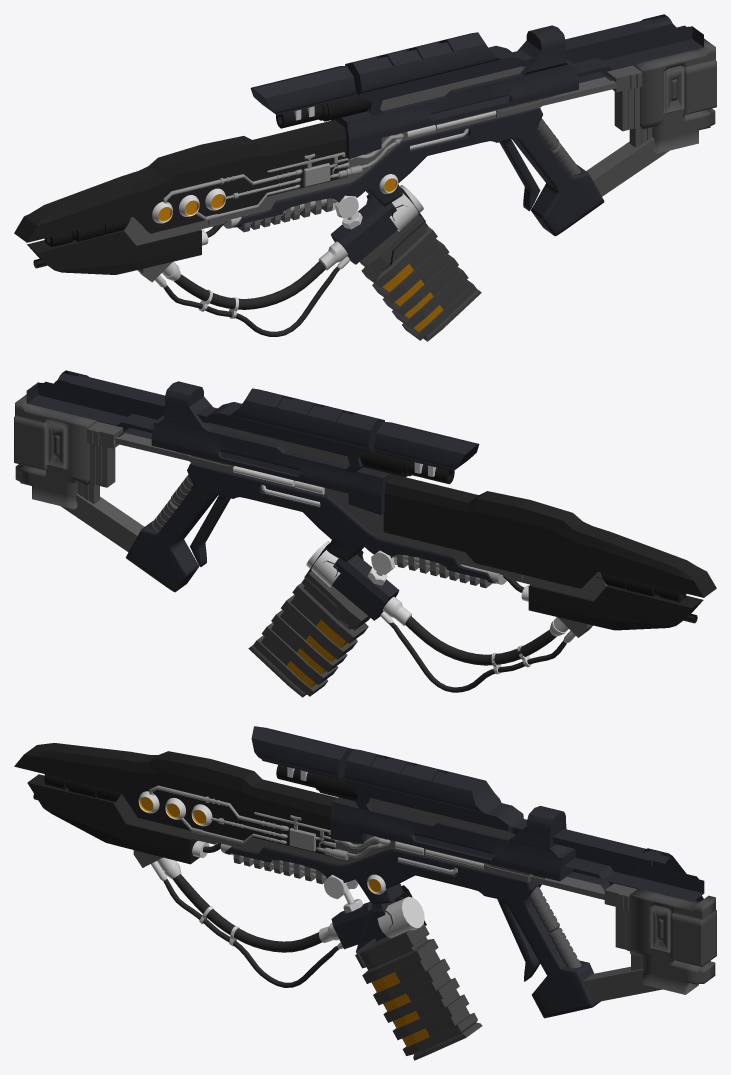
The model's file is early new concept option 2.fbx.
The picture shows the model from 3 angles, top to bottom: view 1: azimuth 30°, elevation 25°; view 2: azimuth 150°, elevation 25°; view 3: azimuth 330°, elevation 25°; orthographic projection.
Visible parts, largest first — view 1: Cube_038, Cube_032, Cube_010, Cube_027, Cube_034, Cube_012, Cylinder_011, Cylinder_038, Cylinder_058, Cube_036, Cube_035, Cylinder_012 (+5 smaller); view 2: Cube_038, Cube_032, Cube_010, Cube_027, Cube_034, Cube_012, Cylinder_038, Cylinder_058, Cube_036, Cube_035, Cylinder_012, Cylinder_008 (+3 smaller); view 3: Cube_038, Cube_032, Cube_010, Cube_027, Cube_034, Cube_012, Cylinder_038, Cylinder_011, Cylinder_012, Cylinder_058, Cube_035, Cylinder_020 (+5 smaller).
Part boxes in pixels (box(x1,y1,x2,y2)): Cube_038: box(250, 14, 703, 159); Cube_032: box(14, 120, 347, 274); Cube_010: box(234, 107, 604, 270); Cube_027: box(360, 215, 481, 341); Cube_034: box(633, 38, 716, 153); Cube_012: box(123, 66, 616, 245); Cylinder_011: box(163, 133, 403, 220); Cylinder_038: box(163, 261, 339, 336); Cylinder_058: box(33, 92, 370, 268); Cube_036: box(607, 65, 652, 147); Cube_035: box(586, 137, 669, 196); Cylinder_012: box(155, 185, 423, 287); Cube_038: box(26, 370, 479, 515); Cube_032: box(383, 475, 716, 630); Cube_010: box(125, 462, 495, 626); Cube_027: box(248, 571, 370, 697); Cube_034: box(14, 394, 97, 509); Cube_012: box(115, 422, 607, 600); Cylinder_038: box(389, 616, 566, 692); Cylinder_058: box(360, 448, 697, 623); Cube_036: box(77, 421, 123, 507); Cube_035: box(61, 493, 144, 552); Cylinder_012: box(306, 541, 575, 643); Cylinder_008: box(233, 466, 324, 506); Cube_038: box(251, 726, 704, 901); Cube_032: box(14, 743, 337, 864); Cube_010: box(224, 846, 600, 1018); Cube_027: box(355, 923, 482, 1060); Cube_034: box(630, 888, 716, 994); Cube_012: box(115, 794, 604, 899); Cylinder_038: box(163, 874, 339, 987); Cylinder_011: box(149, 785, 390, 859); Cylinder_012: box(151, 840, 424, 948); Cylinder_058: box(33, 765, 357, 801); Cube_035: box(583, 966, 662, 1002); Cylinder_020: box(138, 791, 386, 894).
Size of the model in its own units: 757 by 305 by 37.49.
